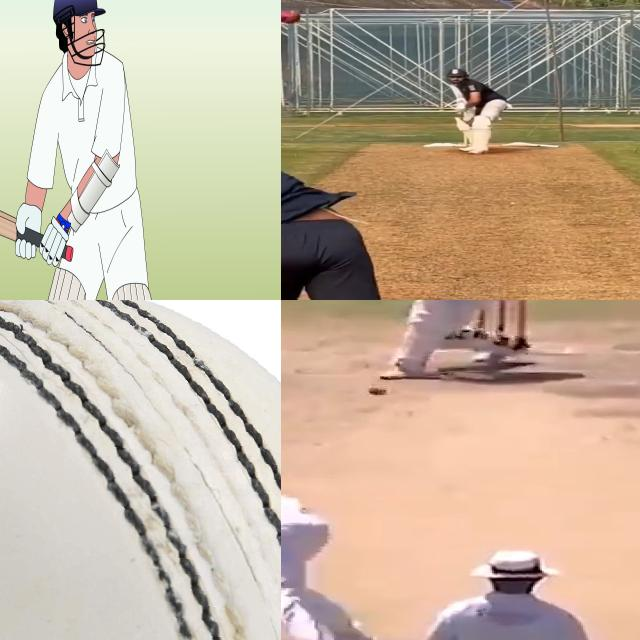Cricket ball: (0, 300, 281, 640), (364, 384, 390, 395), (281, 10, 300, 23)
